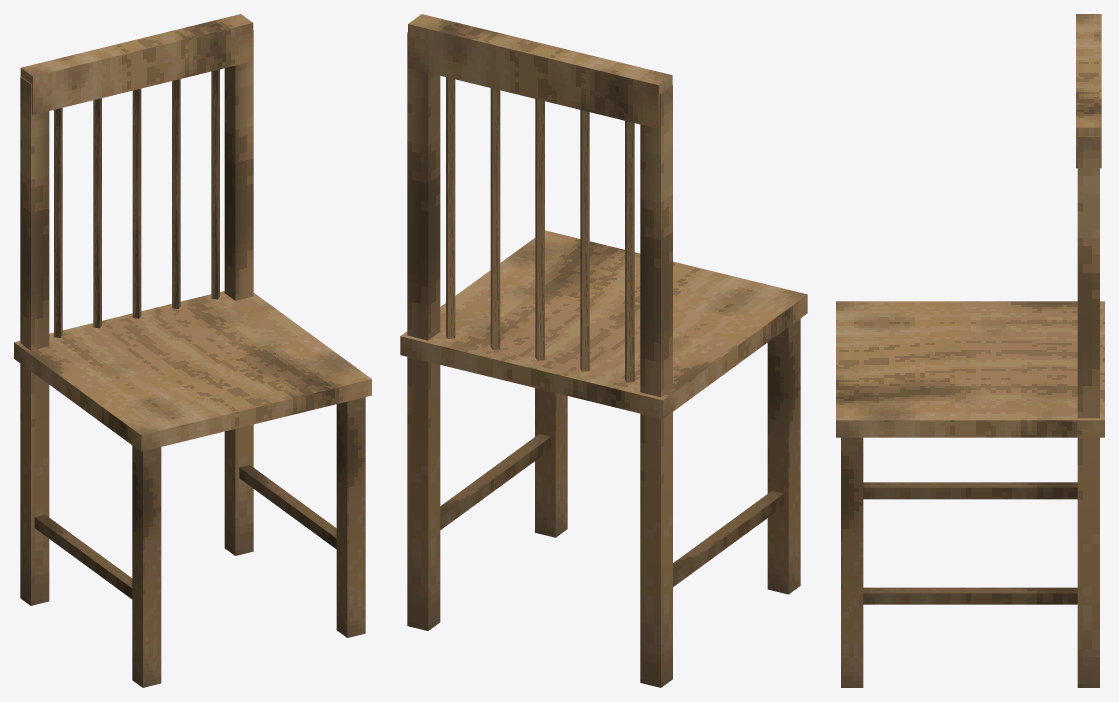
File: chair_ladder_pine.glb
3 views of the same model, side by side, from view 1: azimuth 30°, elevation 25°; view 2: azimuth 150°, elevation 25°; view 3: azimuth 270°, elevation 25° (orthographic). The views are drawn at different scales.
Parts seen in each view (by area): view 1: chair_ladder_pine; view 2: chair_ladder_pine; view 3: chair_ladder_pine.
Boxes of the visible parts, <box> form: chair_ladder_pine: <box>14,14,371,687</box>; chair_ladder_pine: <box>400,14,807,687</box>; chair_ladder_pine: <box>836,14,1104,687</box>.
Bounding box in the file's own units: 0.44 × 0.965 × 0.42.
1 material, 1 textured.
